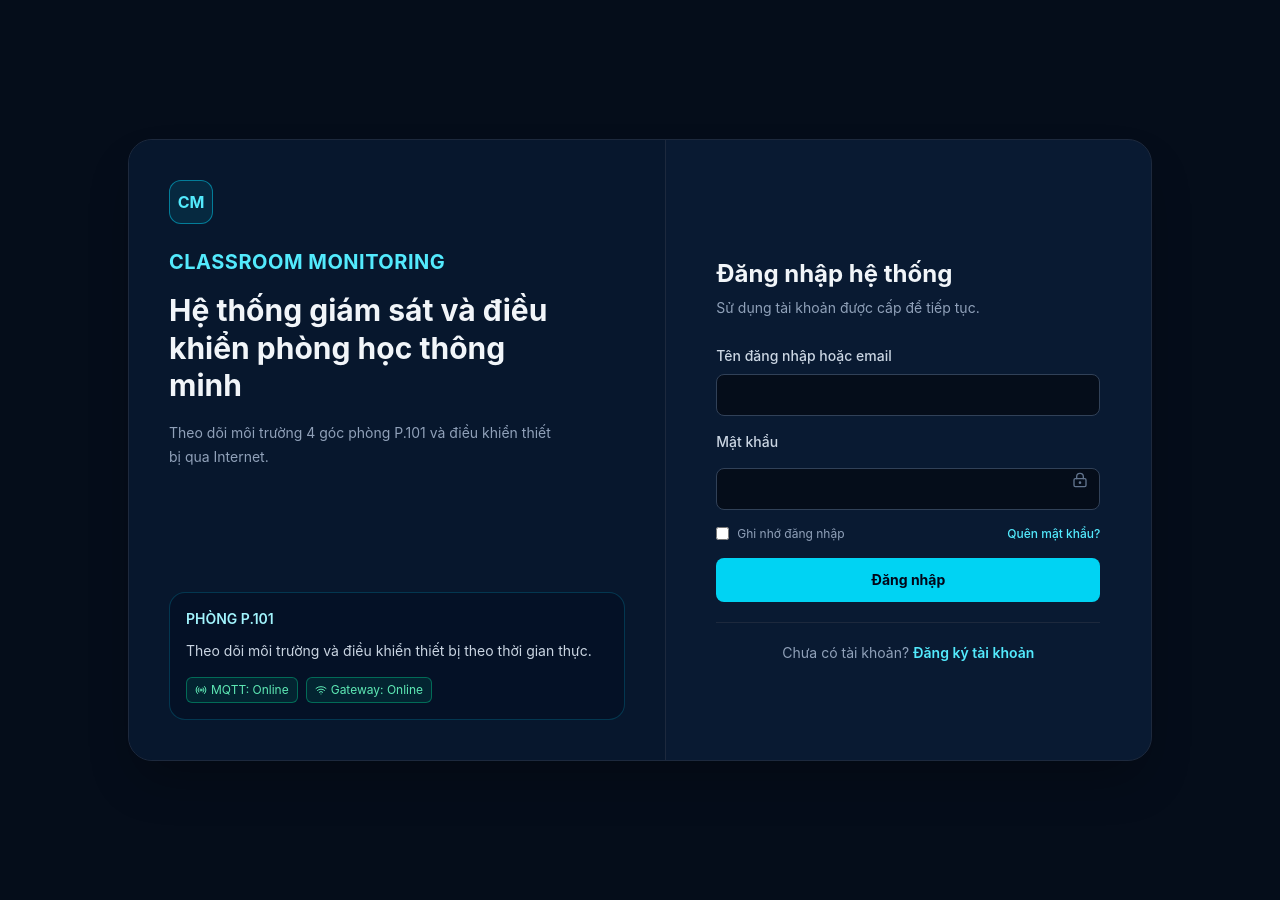
it: Smart Classroom authenticated navigation › opens registration from the login screen
Click the link "Đăng ký tài khoản". click: click(974, 652)
box: [913,644,1034,660]
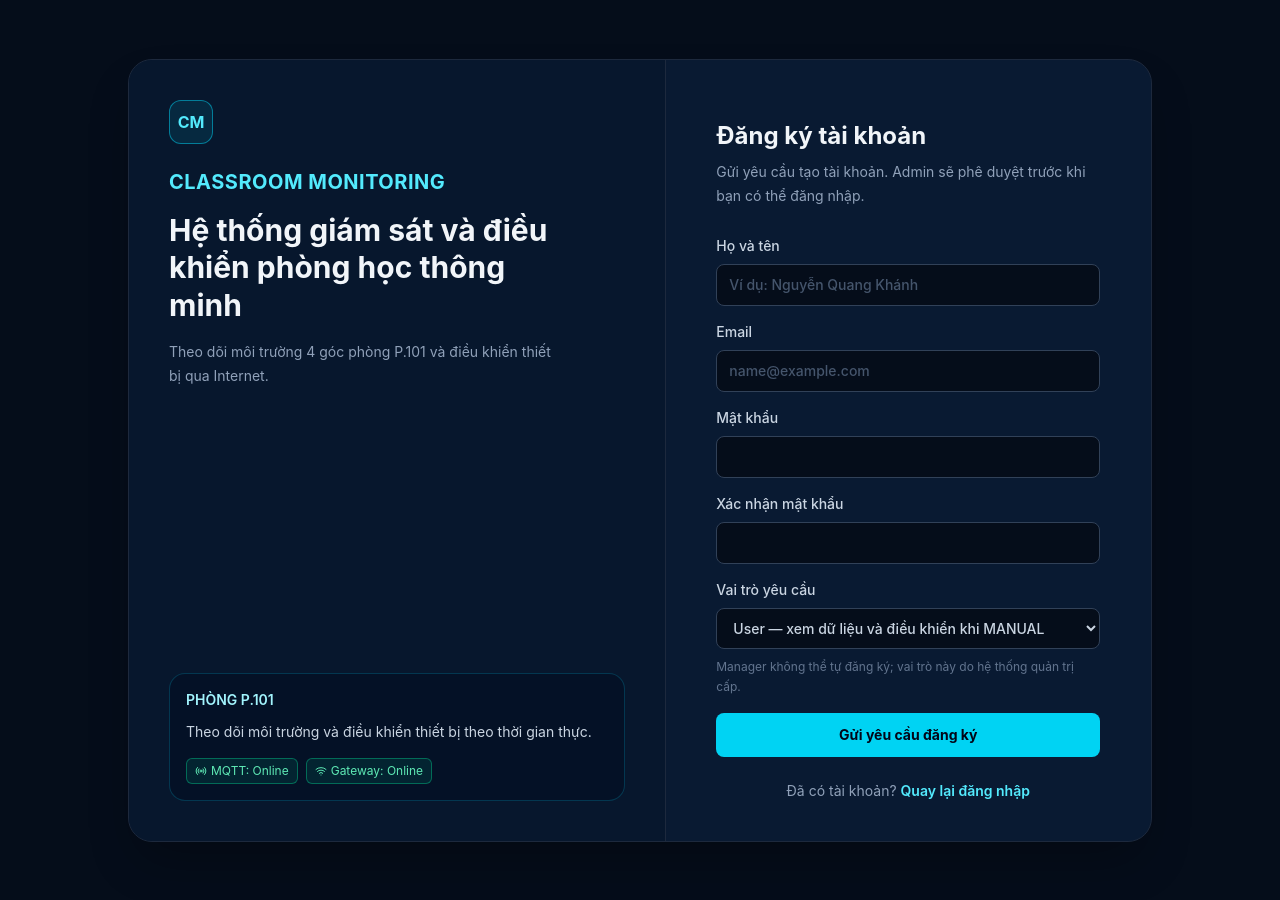
Expected: the heading "Đăng ký tài khoản" is shown, [716,120,926,150]
